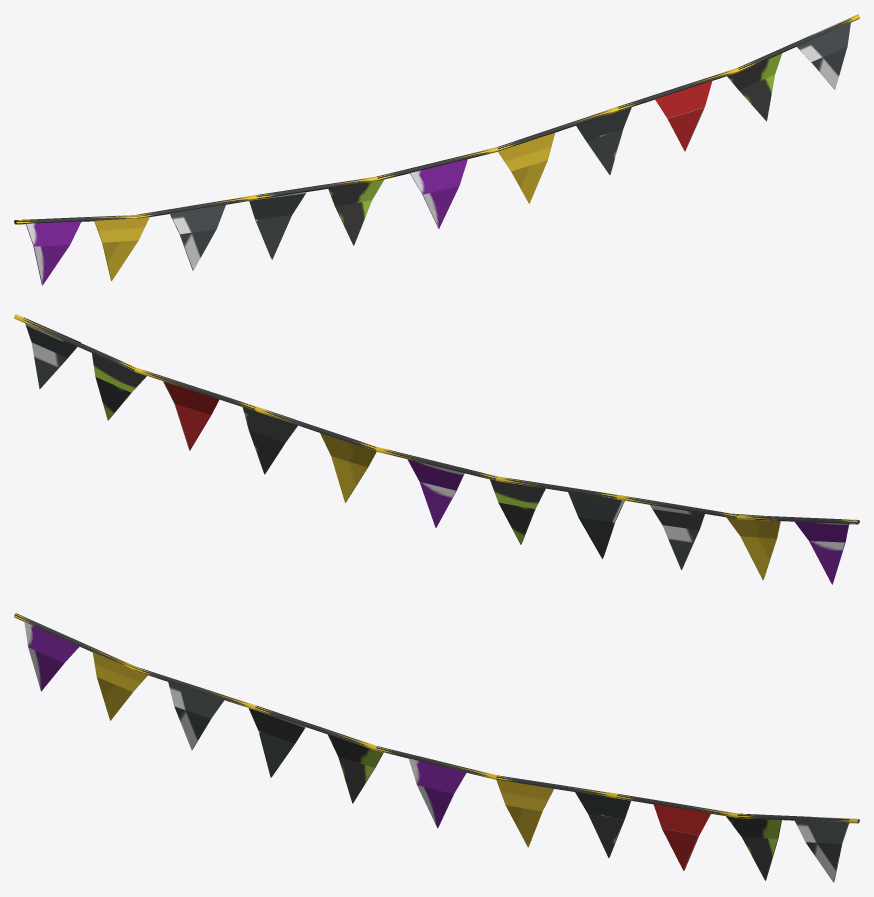
The model's file is ColorFlags.FBX.
3 views of the same model, one above another, from view 1: azimuth 30°, elevation 25°; view 2: azimuth 150°, elevation 25°; view 3: azimuth 330°, elevation 25° (orthographic).
Parts seen in each view (by area): view 1: ColorFlags; view 2: ColorFlags; view 3: ColorFlags.
Part boxes in pixels (x1=…): ColorFlags: x1=14, y1=14, x2=859, y2=285; ColorFlags: x1=14, y1=314, x2=859, y2=584; ColorFlags: x1=14, y1=613, x2=859, y2=882.
Bounding box in the file's own units: 1736 × 218 × 18.43.
